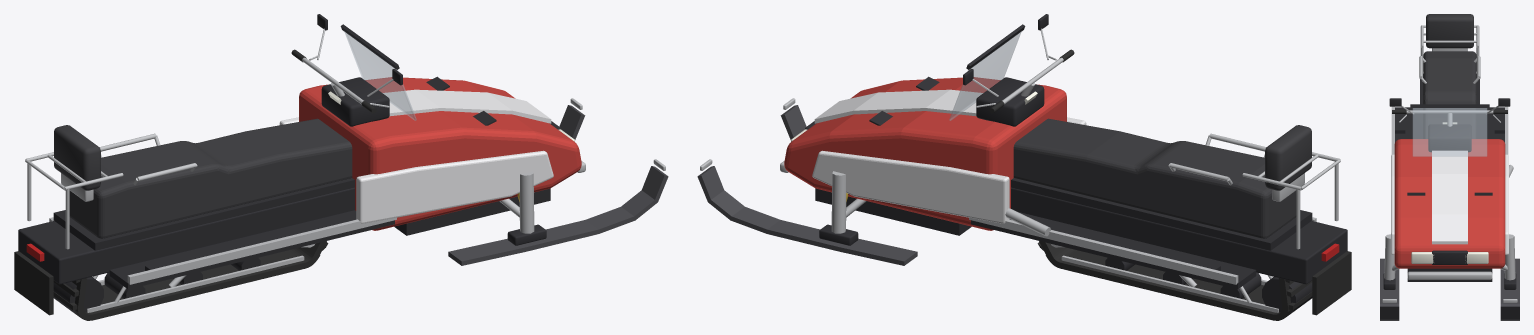
Rendered from snowmobile.glb.
3 views of the same model, side by side, from view 1: azimuth 30°, elevation 25°; view 2: azimuth 150°, elevation 25°; view 3: azimuth 270°, elevation 25° (orthographic). The views are drawn at different scales.
Parts seen in each view (by area): view 1: Seat, Hood, Tunnel, SidePanel.001, Ski.001, TrackBelt, RunningBoard.001, SeatBase, HoodStripe, BoardRail.001, Backrest, Console (+9 smaller); view 2: Seat, Hood, Tunnel, SidePanel, Ski, TrackBelt, SeatBase, RunningBoard, HoodStripe, BoardRail, Backrest, Console (+10 smaller); view 3: Hood, Seat, Windshield, HoodStripe, Backrest, Console, Ski, Ski.001, Bumper, BellyPan, RunningBoard, RunningBoard.001 (+20 smaller).
Part boxes in pixels (x1,y1,x2,y2): Seat: (69,118,352,238); Hood: (299,77,581,230); Tunnel: (18,187,354,284); SidePanel.001: (356,150,553,223); Ski.001: (448,166,668,265); TrackBelt: (72,241,326,320); RunningBoard.001: (109,210,394,289); SeatBase: (53,178,354,250); HoodStripe: (383,89,551,123); BoardRail.001: (127,217,396,284); Backrest: (54,125,100,190); Console: (321,77,389,126); Seat: (1013,118,1296,238); Hood: (784,77,1066,230); Tunnel: (1011,187,1347,284); SidePanel: (812,150,1009,223); Ski: (697,166,917,265); TrackBelt: (1039,241,1293,320); SeatBase: (1011,178,1312,250); RunningBoard: (971,211,1256,289); HoodStripe: (814,89,982,123); BoardRail: (969,217,1238,284); Backrest: (1265,125,1311,190); Console: (976,77,1044,126); Hood: (1394,139,1505,268); Seat: (1423,51,1476,138); Windshield: (1412,108,1487,156); HoodStripe: (1432,150,1467,244); Backrest: (1426,14,1473,48); Console: (1428,124,1471,152); Ski: (1500,258,1519,320); Ski.001: (1380,258,1399,320); Bumper: (1407,271,1492,279); BellyPan: (1407,268,1492,281); RunningBoard: (1480,107,1504,142); RunningBoard.001: (1395,107,1419,142).
Size of the model in its own units: 4.08 by 1.34 by 1.16.
